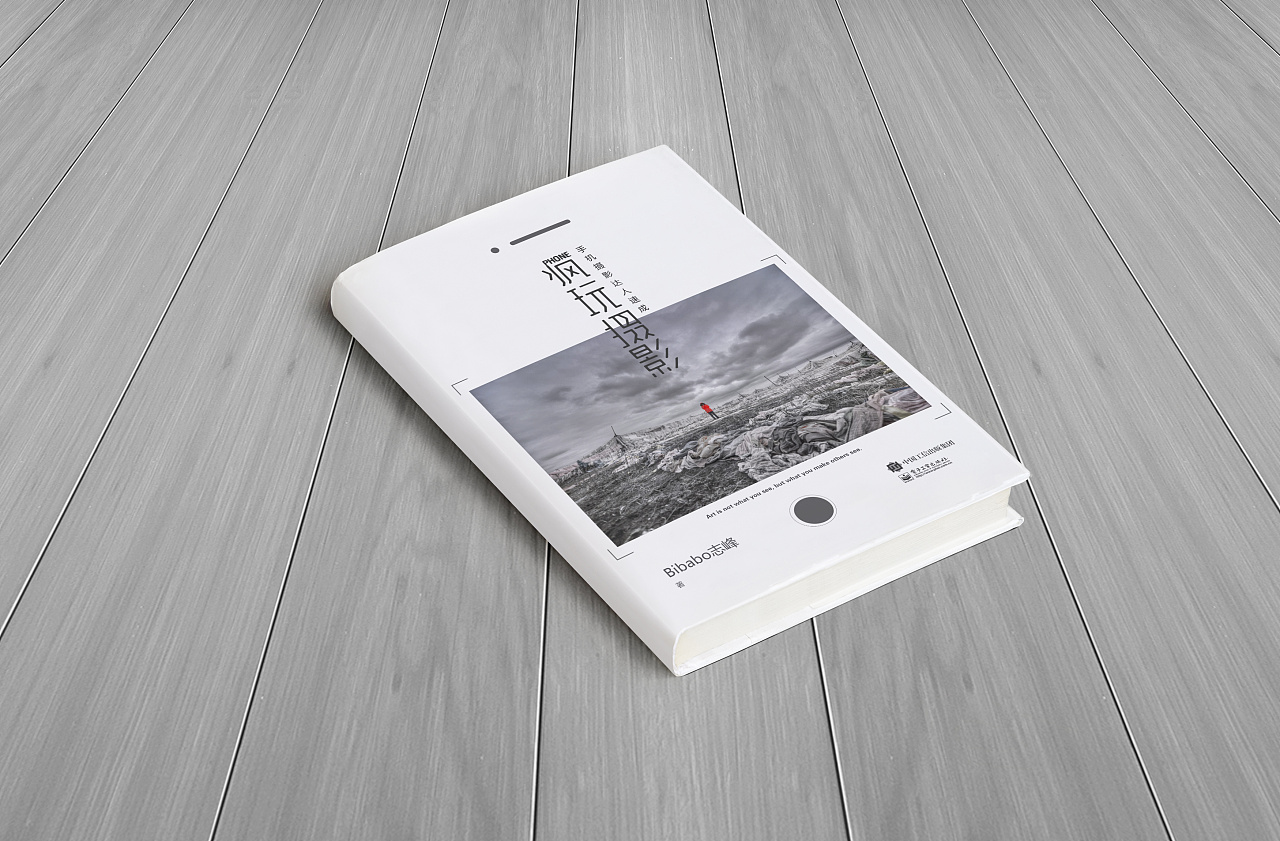book: (301, 141, 1035, 704)
